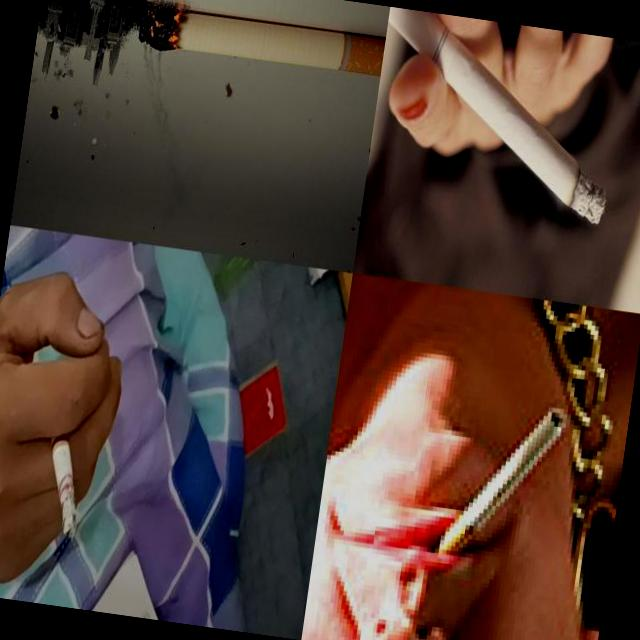cigarette: (364, 8, 630, 226), (436, 393, 567, 574), (137, 5, 386, 78), (31, 402, 92, 538)
